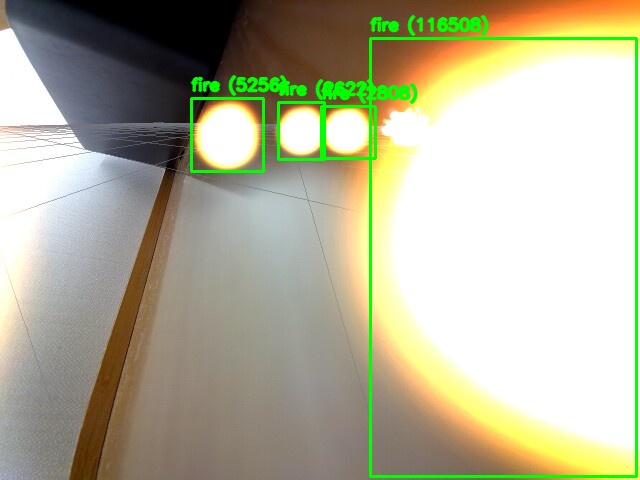fire: (370, 38, 636, 476), (191, 98, 263, 171), (321, 106, 375, 158), (278, 102, 324, 159)
